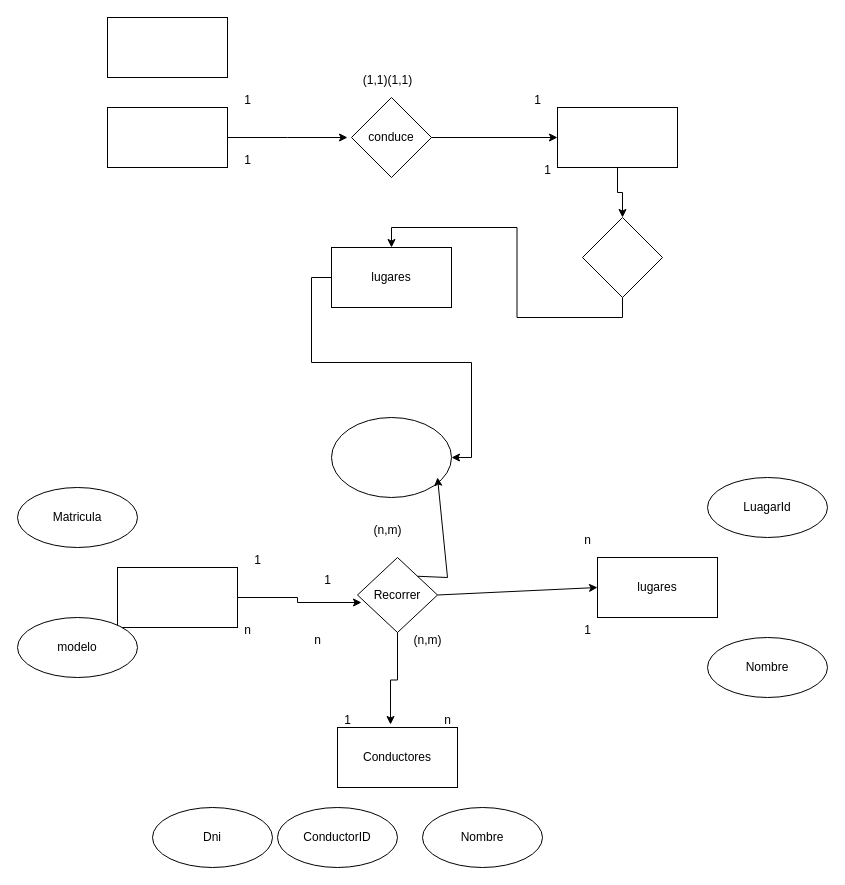
Image size: 845x885. Some labels were removed from this diagram. Each missing label, with the centre of its shape:
Autobuses: point 177,597
autobús: point 617,137
Conductor: point 167,137
estación de autobuses: point 167,47
Fecha en la que visita el lugar: point 391,457
recorre: point 622,257
